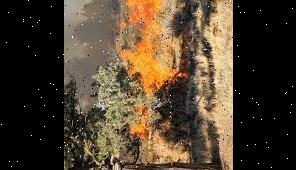fire: (110, 0, 190, 133)
